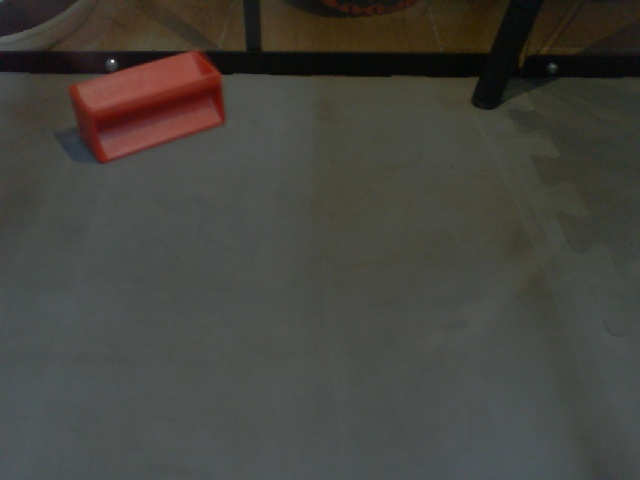RedSample: (69, 50, 231, 167)
